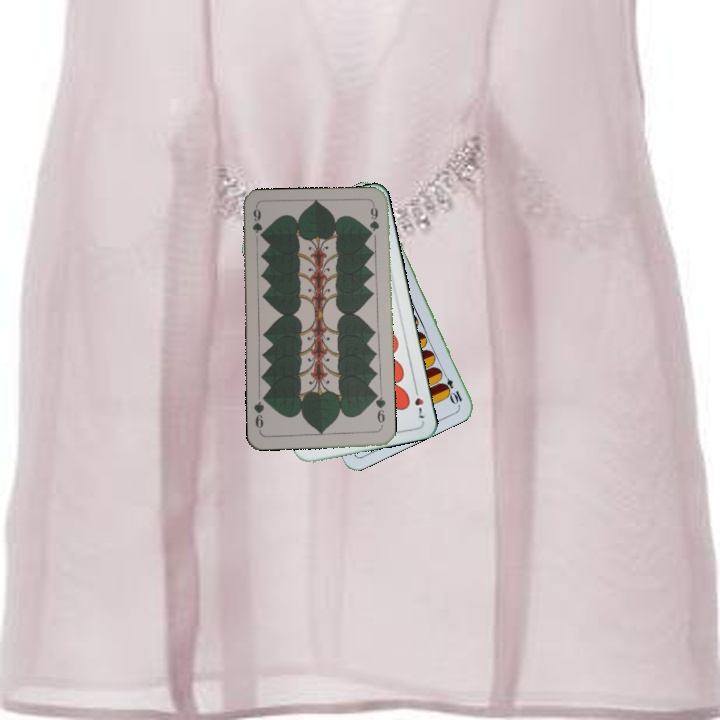E10: (438, 368, 465, 407)
G9: (370, 390, 388, 431), (248, 204, 265, 241)
H7: (410, 383, 427, 422)
